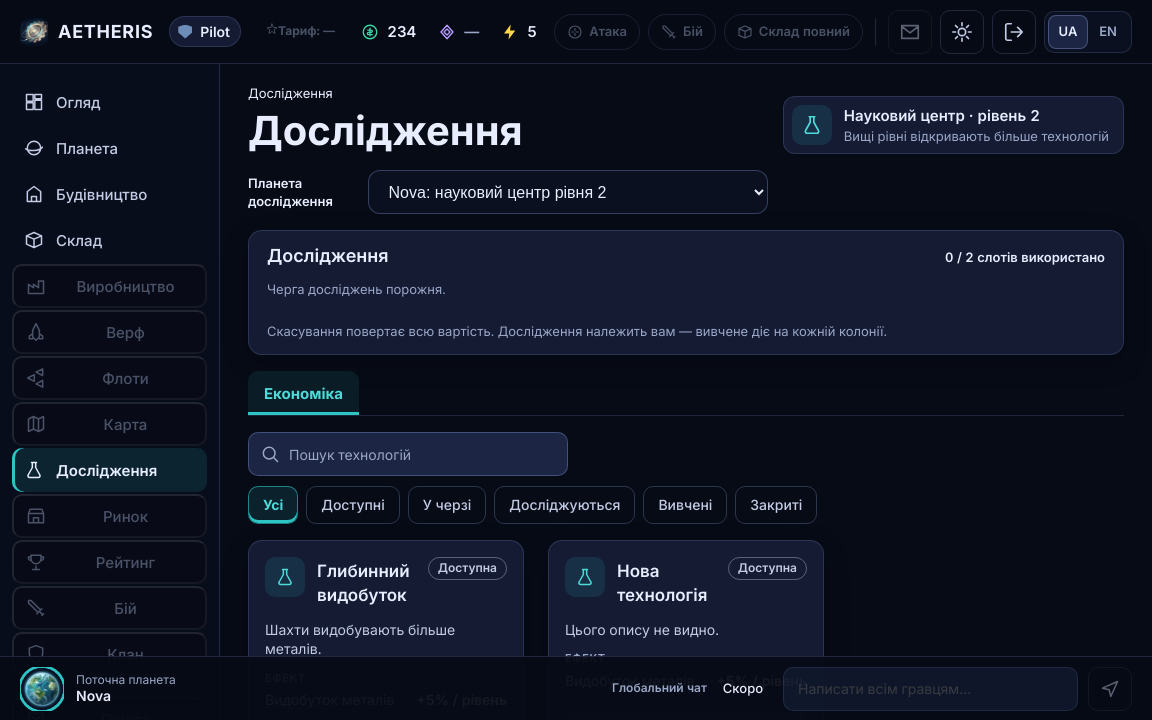
Scenario: /planet/research: the elements of the design › does not draw a tile again when the search only hides another one
Expected: the heading "Нова технологія" is shown, [617,560,716,608]
Type "Глибинний" into the search field.
click(408, 454); type("Глибинний")  # box [248,432,568,476]
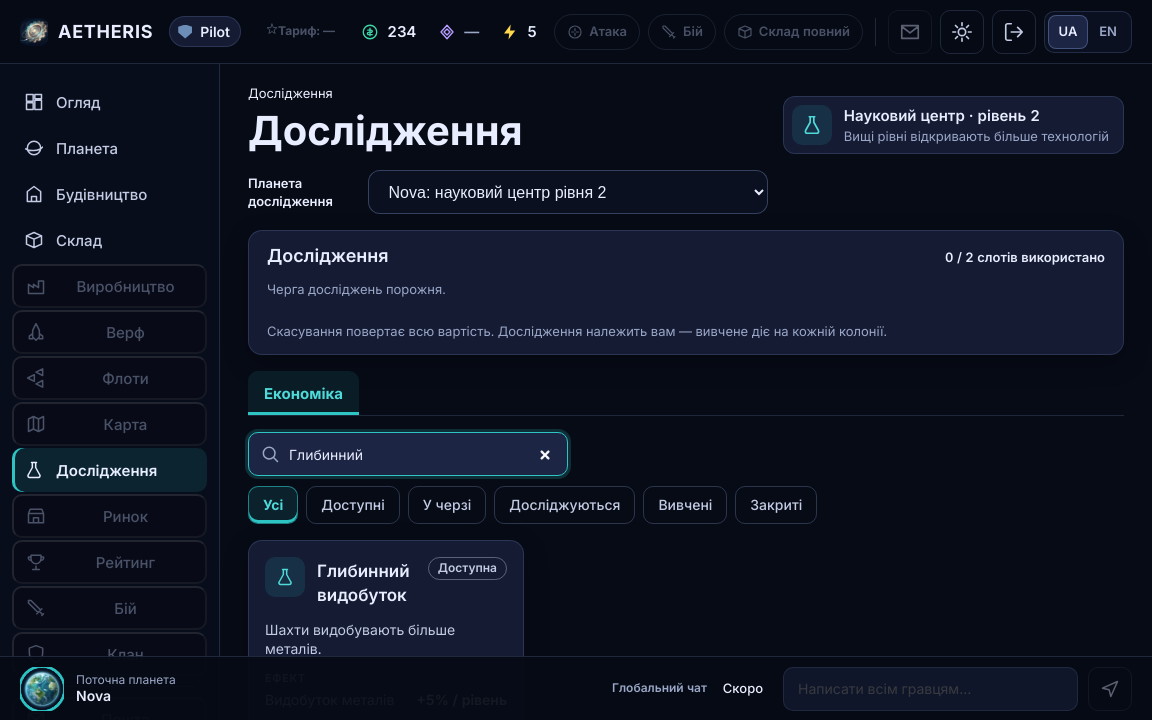
Expected: the heading "Глибинний видобуток" is shown, [317,560,416,608]
Result: the heading "Нова технологія" is gone
